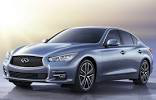car: (4, 23, 152, 90)
